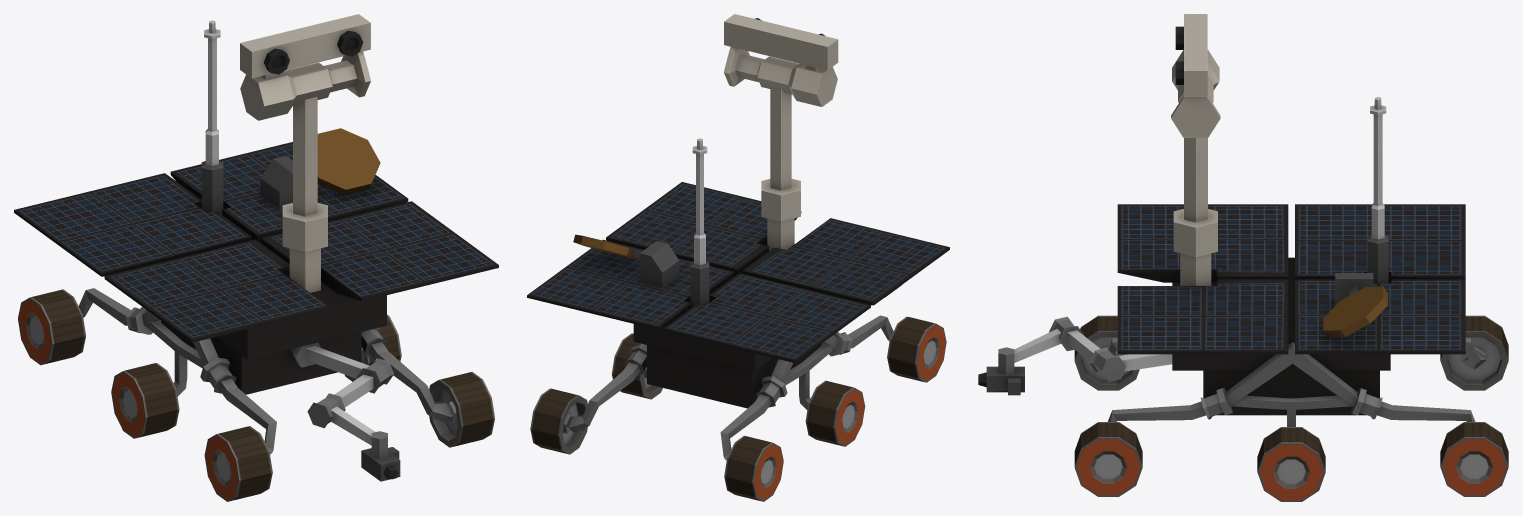
The model's file is SpaceRover.glb.
3 views of the same model, side by side, from view 1: azimuth 30°, elevation 25°; view 2: azimuth 150°, elevation 25°; view 3: azimuth 270°, elevation 25° (orthographic). The views are drawn at different scales.
Visible parts, largest first — view 1: Mars Rover; view 2: Mars Rover; view 3: Mars Rover.
Boxes of the visible parts, x1,y1,x2,y2 form: Mars Rover: (14,14,498,501); Mars Rover: (527,14,949,501); Mars Rover: (978,14,1508,501).
Bounding box in the file's own units: 0.0655 × 0.0829 × 0.1.
Materials: 1 (1 with a texture image).
